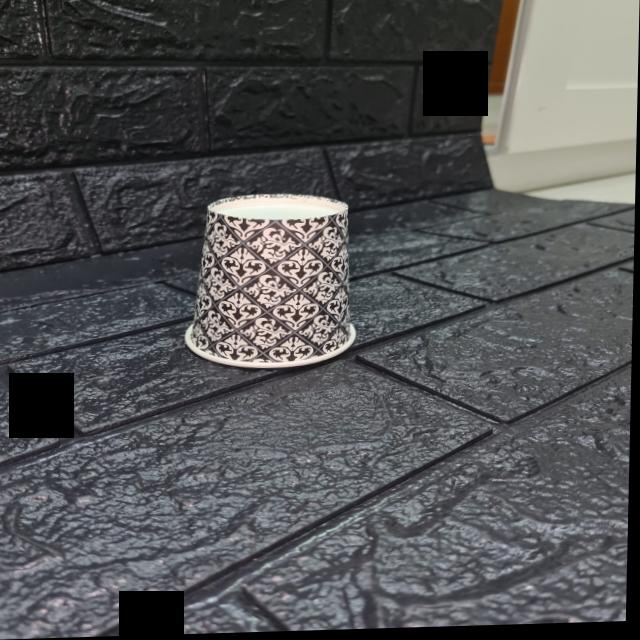cups: (177, 187, 358, 371)
